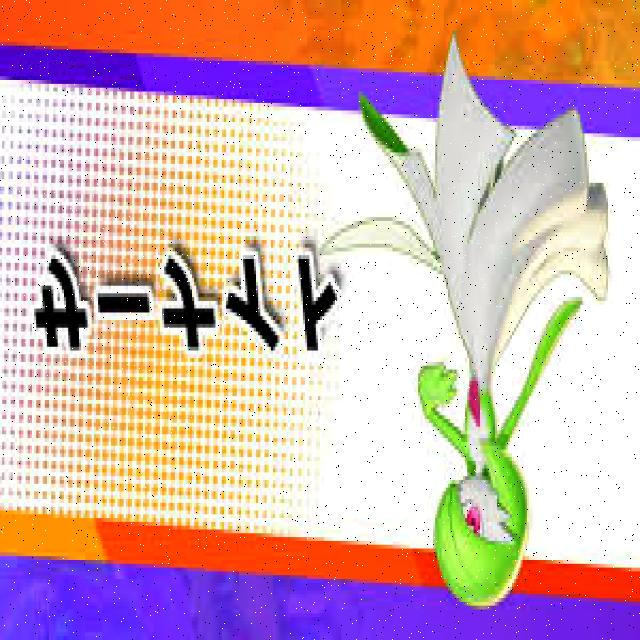gardevoir: (322, 30, 620, 610)
